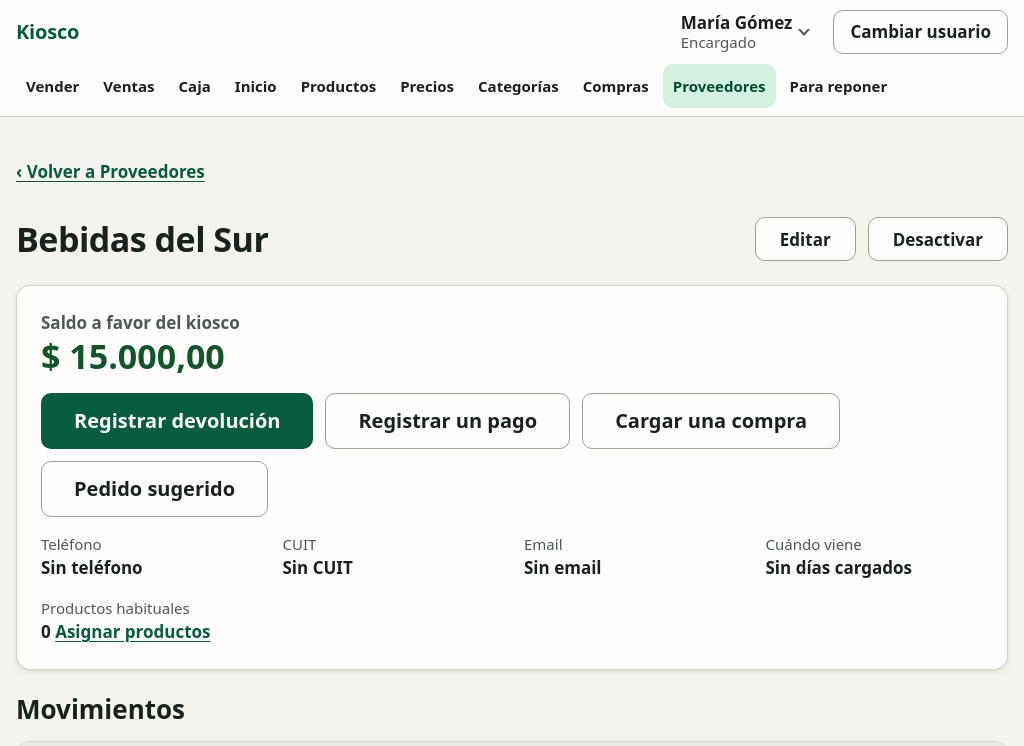
Test: Formulario de la devolución › una devolución mayor que el saldo a favor pide confirmación y reenvía con el mismo id
The width and height of the screenshot is (1024, 746).
Step 1. Click the button "Registrar devolución" → coordinates (177, 421), box [41,393,313,449]
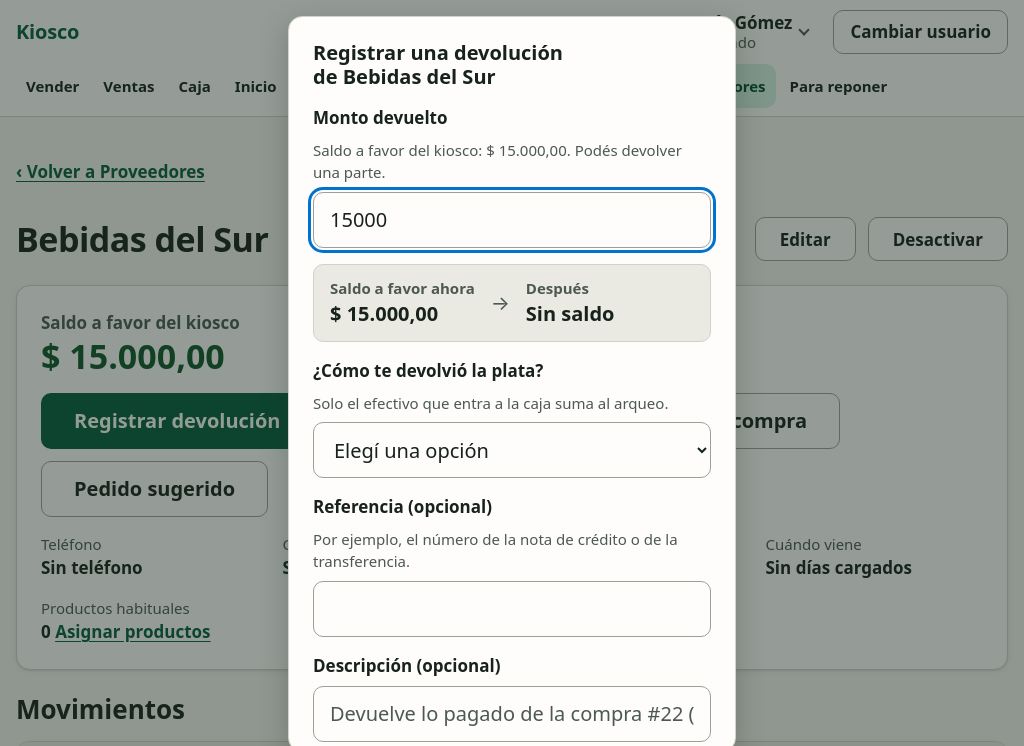
Step 2. Replace the text in the field labelled "Monto devuelto" with "20000" → coordinates (512, 220), box [313,192,711,248]
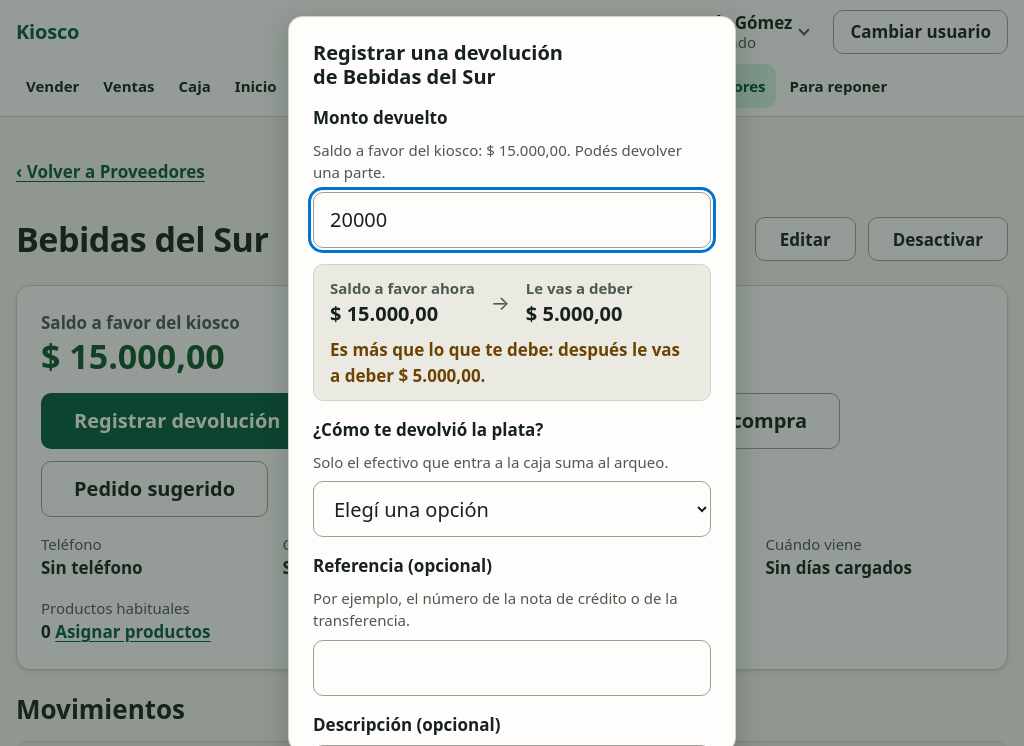
Step 3. Select "Efectivo que entra a la caja (suma al arqueo)" in the dropdown labelled "¿Cómo te devolvió la plata?" → coordinates (512, 509), box [313,481,711,537]
(page scrolled)
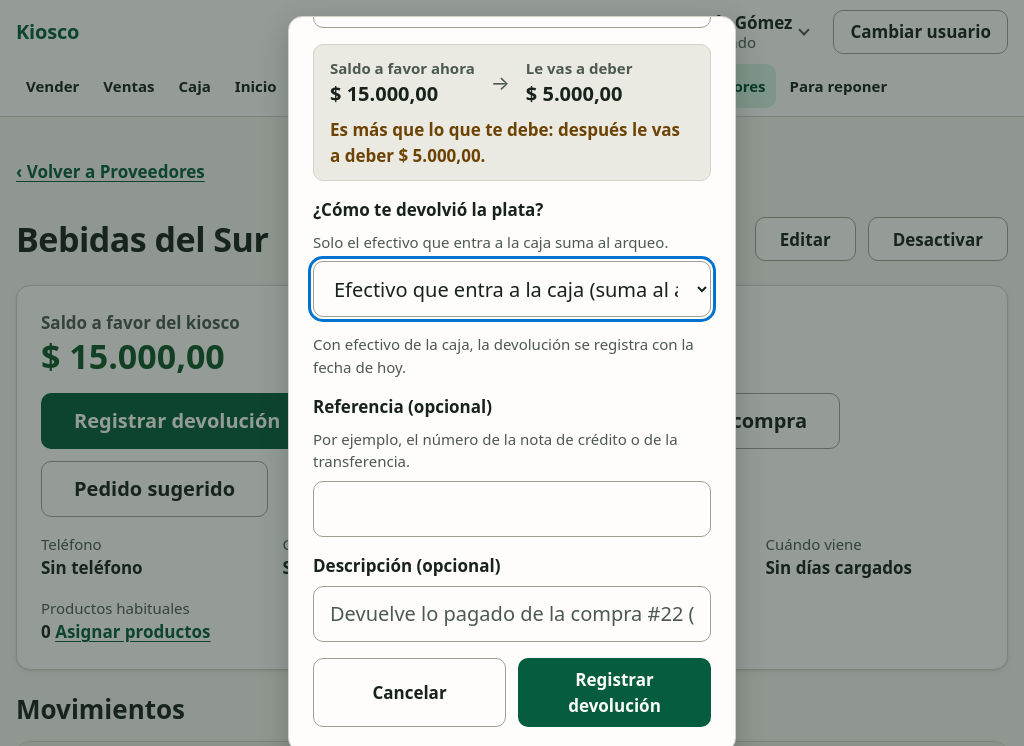
Step 4. Click the button "Registrar devolución" → coordinates (614, 692), box [518,658,711,727]
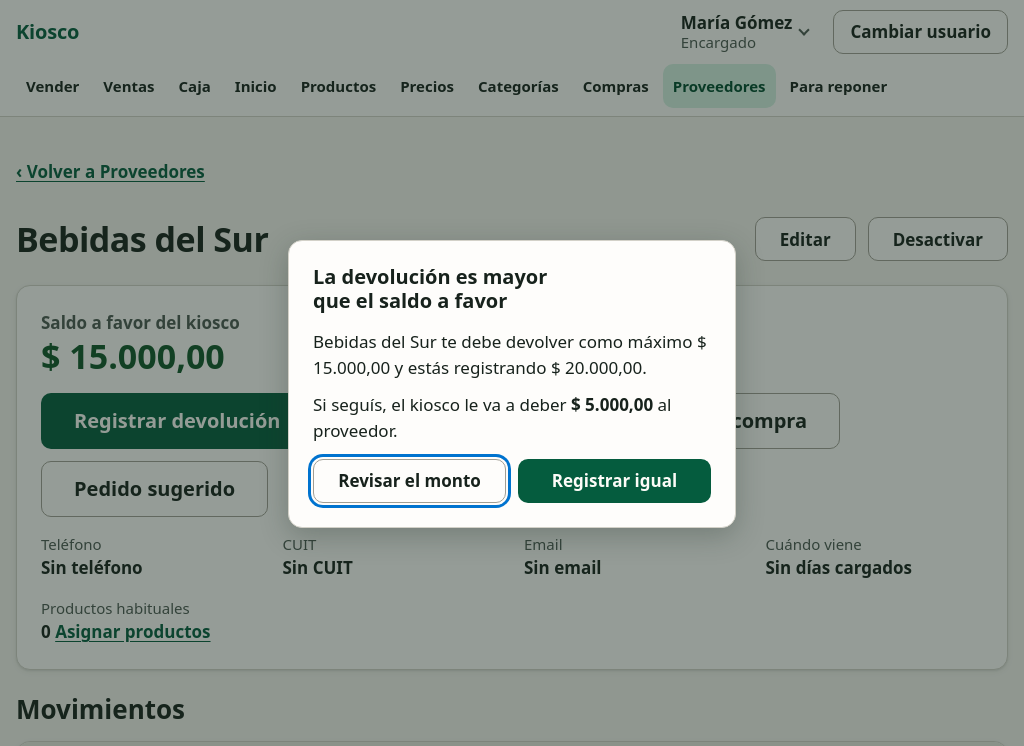
Check: the heading "La devolución es mayor que el saldo a favor" is shown, box [313,263,547,314]
Check: the dialog shows "le va a deber $ 5.000,00 al proveedor", box [288,240,736,528]
Step 5. Click the button "Registrar igual" → coordinates (614, 481), box [518,459,711,503]
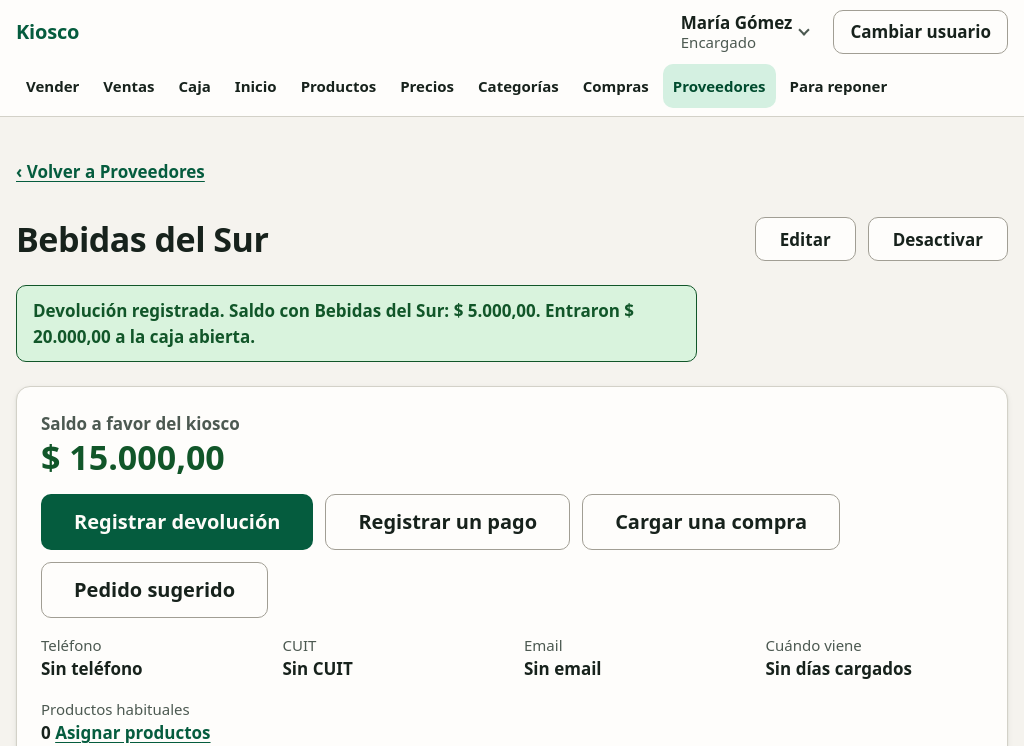
Check: the text "Entraron $ 20.000,00 a la caja abierta" is shown, box [33,299,634,348]
